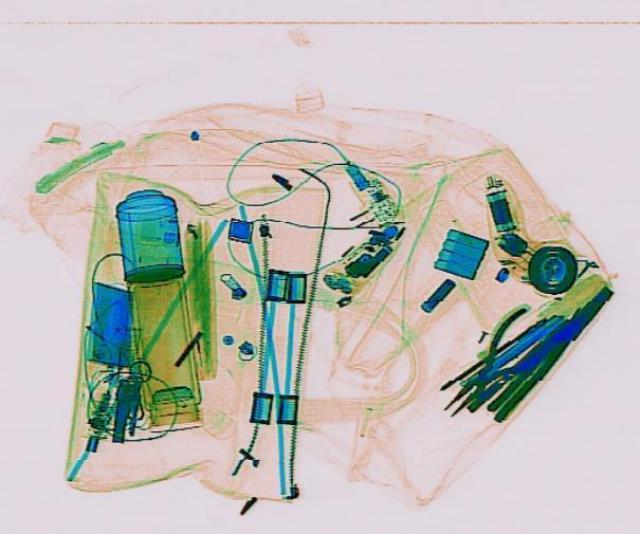Pliers: (422, 301, 568, 426)
